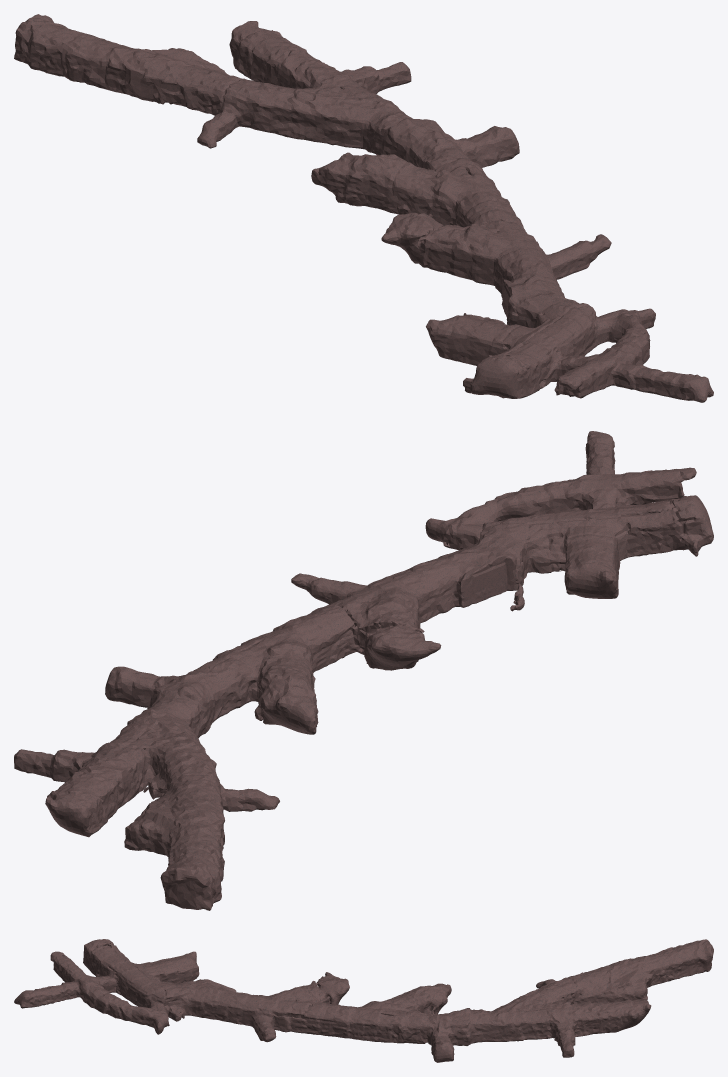
Rendered from miningSite.fbx.
3 views of the same model, one above another, from view 1: azimuth 30°, elevation 25°; view 2: azimuth 150°, elevation 25°; view 3: azimuth 270°, elevation 25° (orthographic). The views are drawn at different scales.
Visible parts, largest first — view 1: meshlab, meshlab.001; view 2: meshlab, meshlab.001; view 3: meshlab, meshlab.001.
Part boxes in pixels (box(x1,y1,x2,y2)): meshlab: box(14, 14, 713, 402); meshlab.001: box(14, 14, 712, 402); meshlab: box(14, 431, 713, 910); meshlab.001: box(14, 431, 713, 909); meshlab: box(14, 939, 713, 1062); meshlab.001: box(15, 939, 713, 1062).
Size of the model in its own units: 75.17 by 230 by 14.01.
